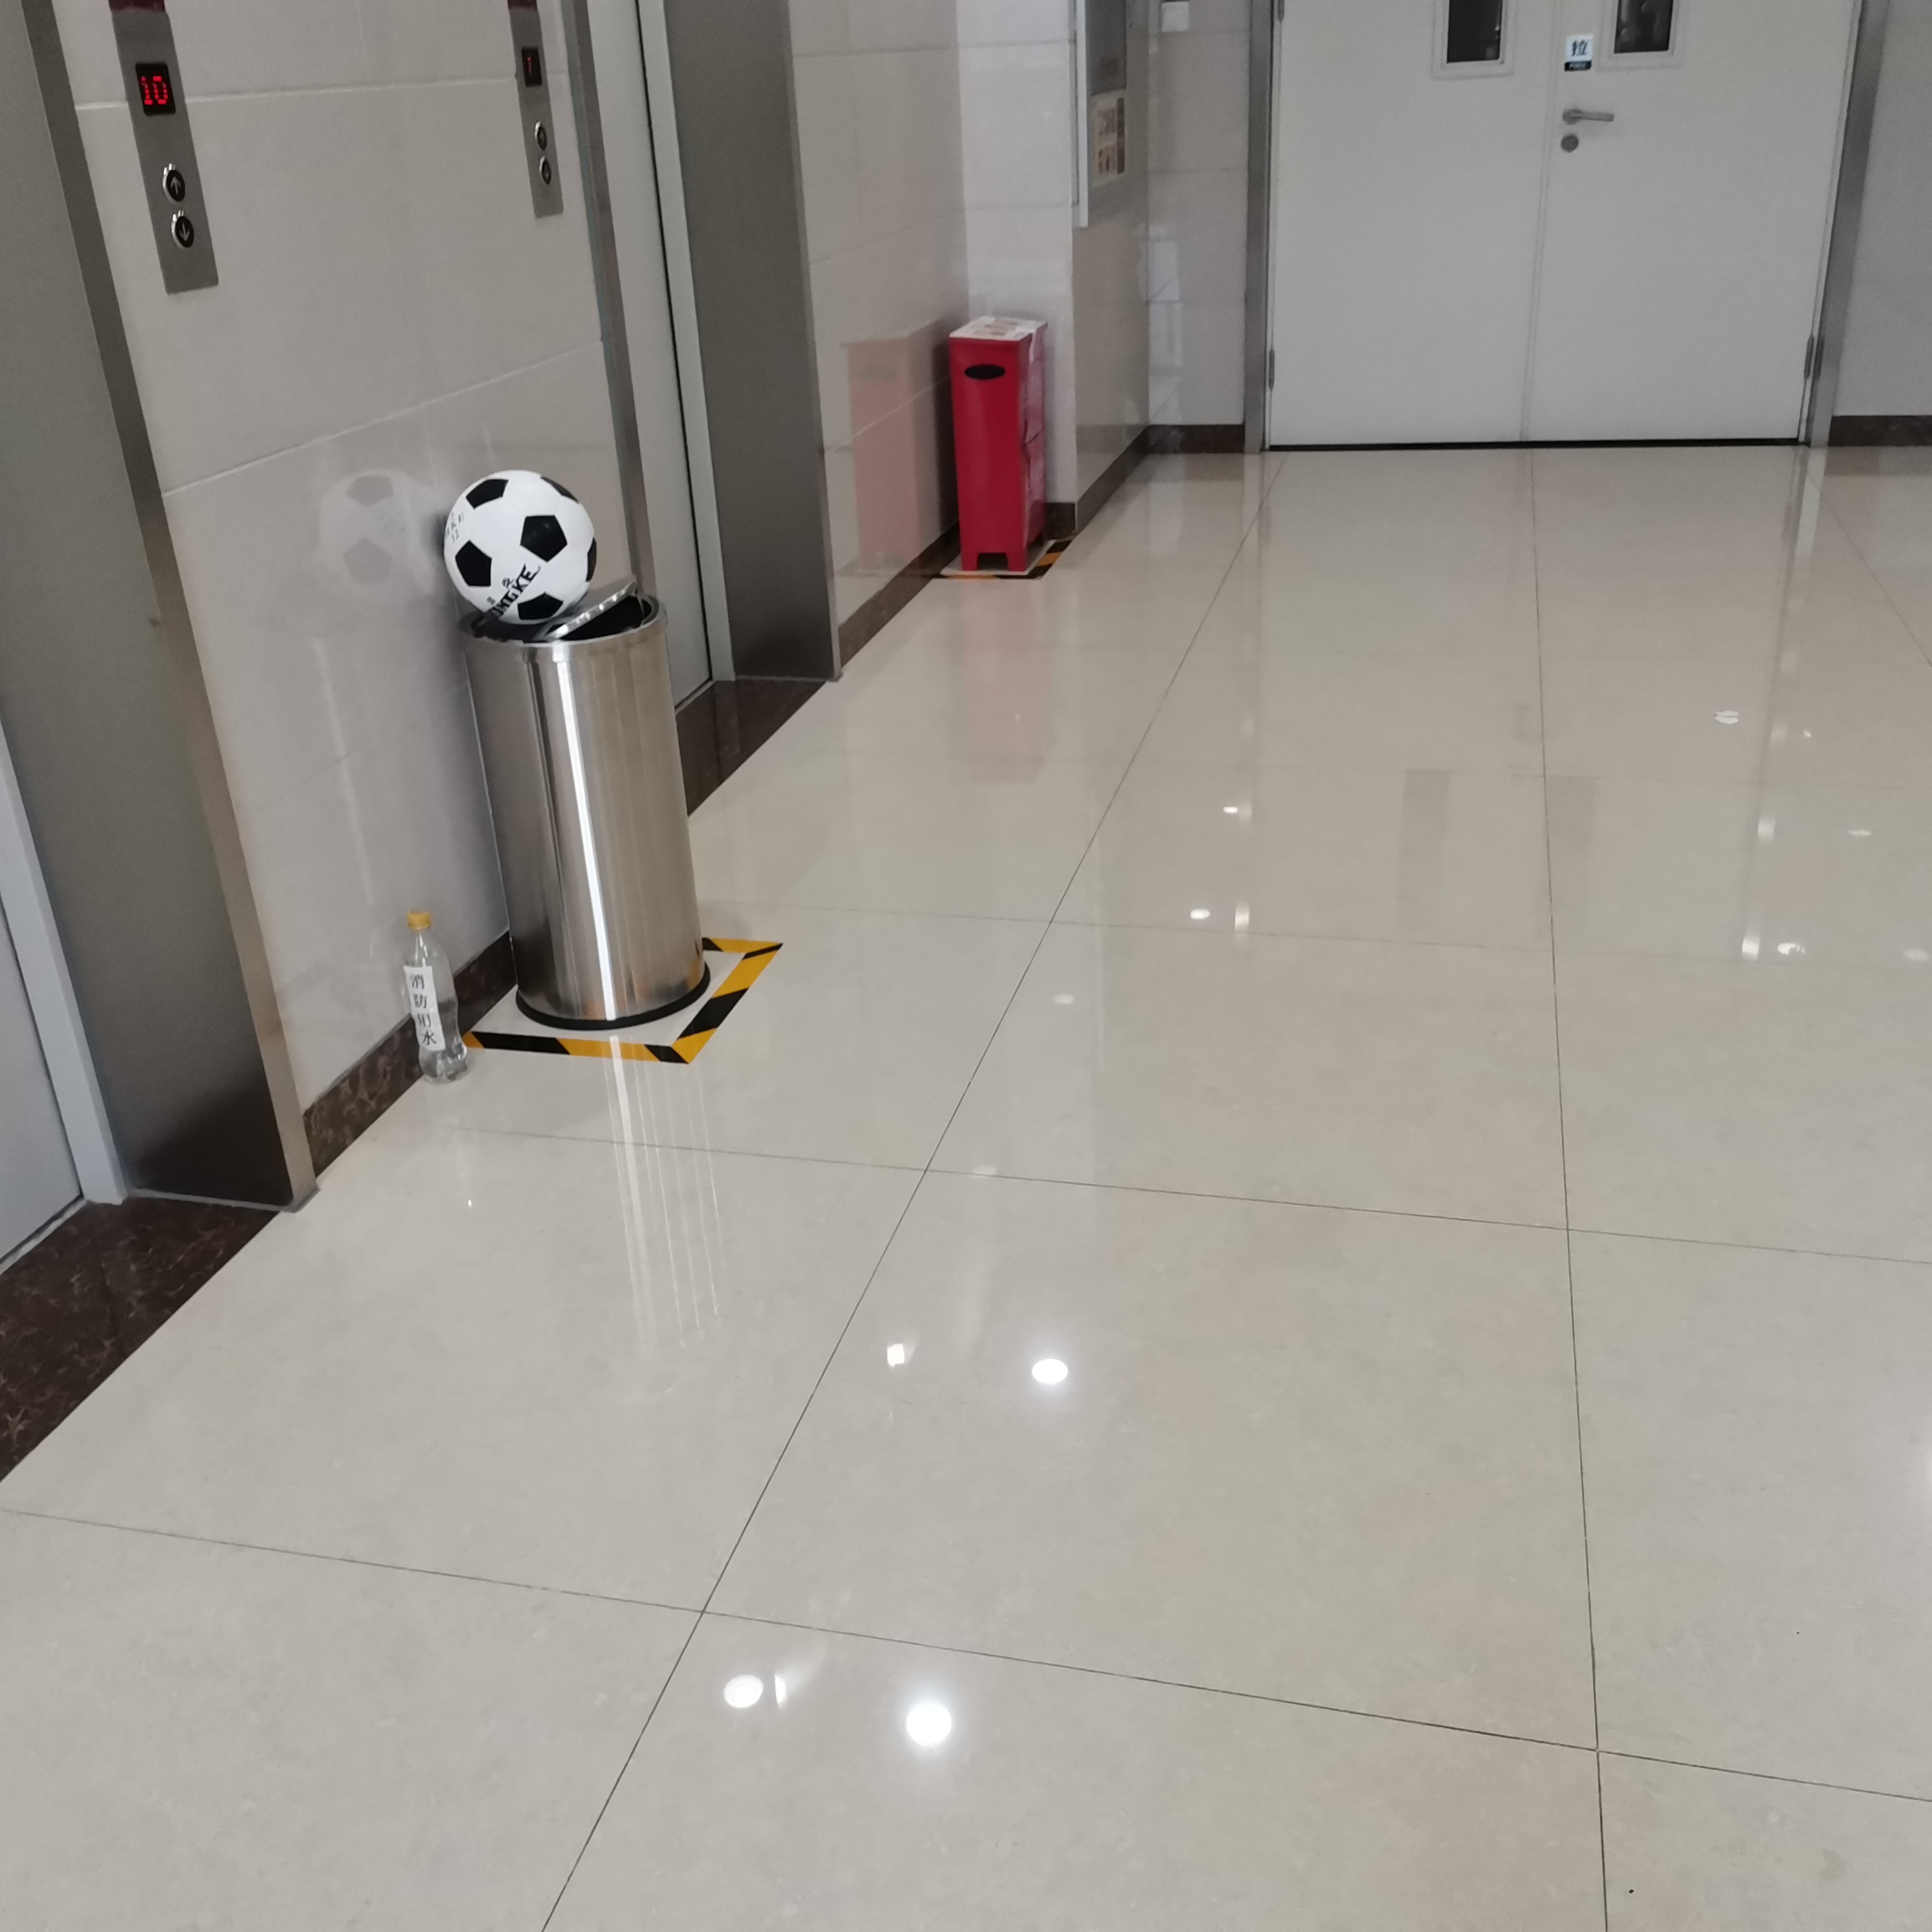football: (444, 469, 598, 623)
